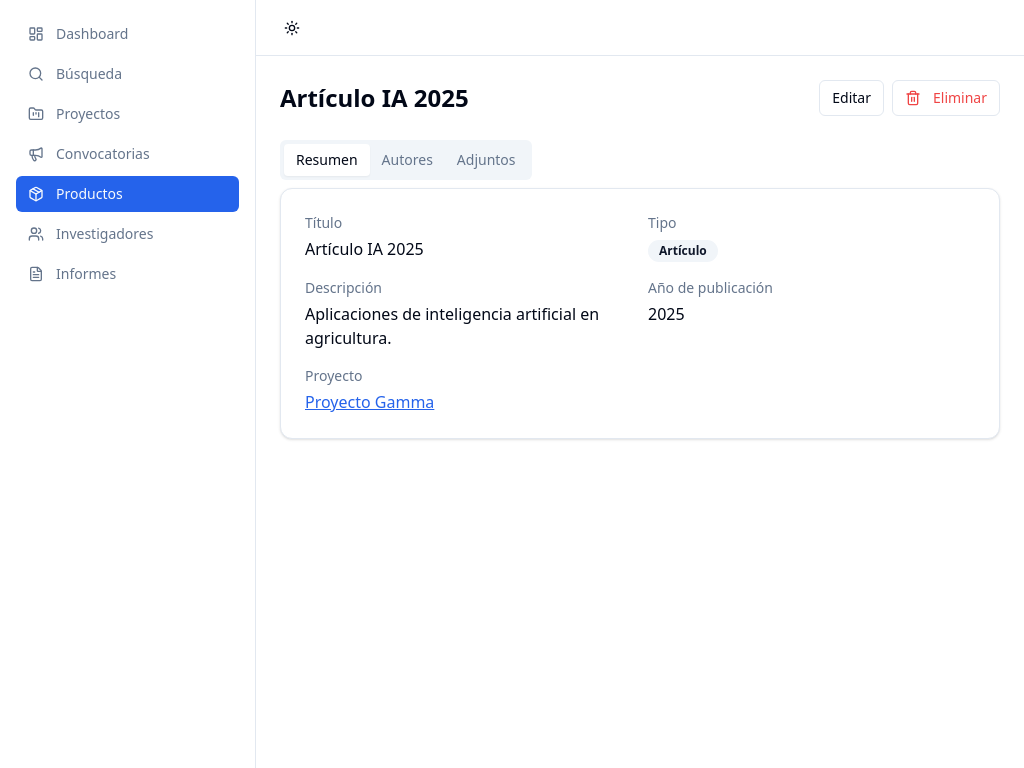
Scenario: /products/[id] — header and overview tab › mounts the authors and attachments managers from their tabs
The image size is (1024, 768).
Click the tab "Autores": x=407, y=160 left=370, top=144, right=445, bottom=176
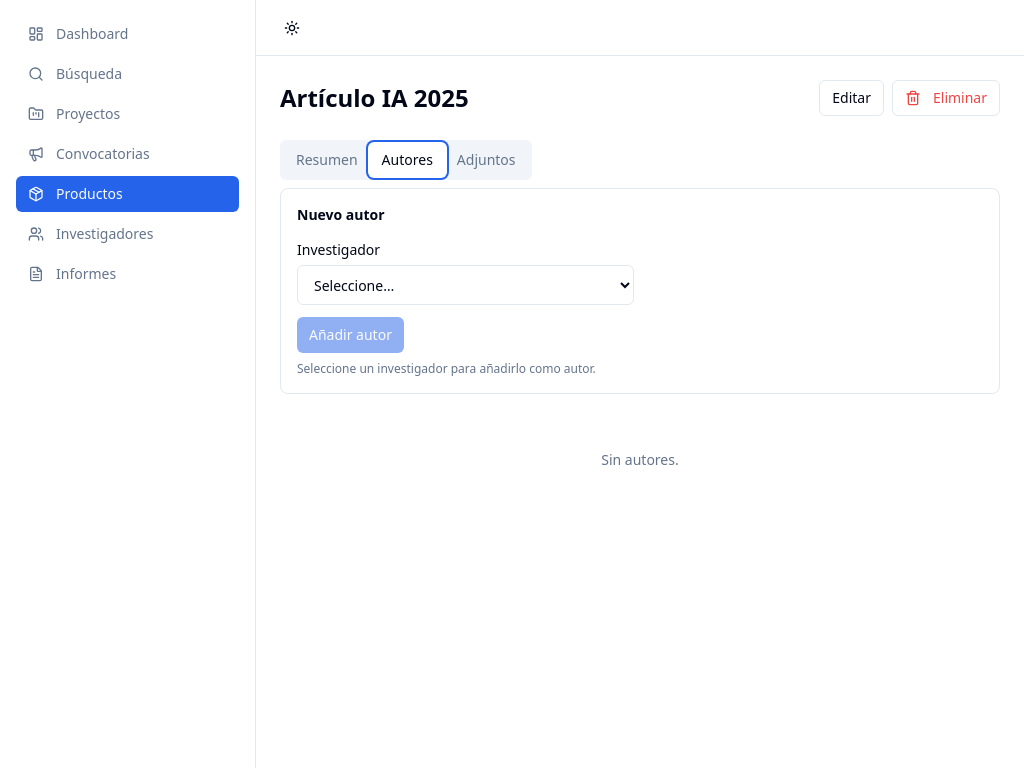
Now the text "Sin autores." is shown, box left=601, top=450, right=679, bottom=469
Click the tab "Adjuntos": x=486, y=160 left=445, top=144, right=528, bottom=176
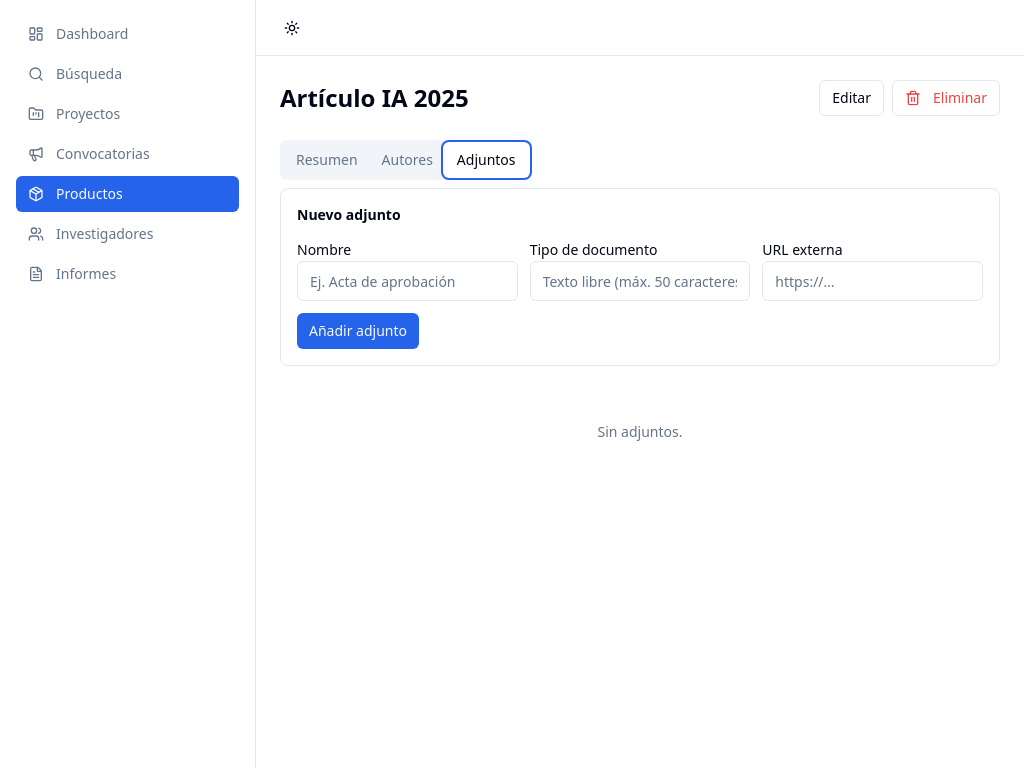
Now the text "Sin adjuntos." is shown, box left=598, top=422, right=682, bottom=441
